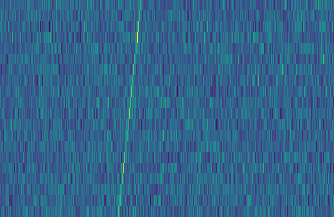signal: (112, 0, 145, 217)
